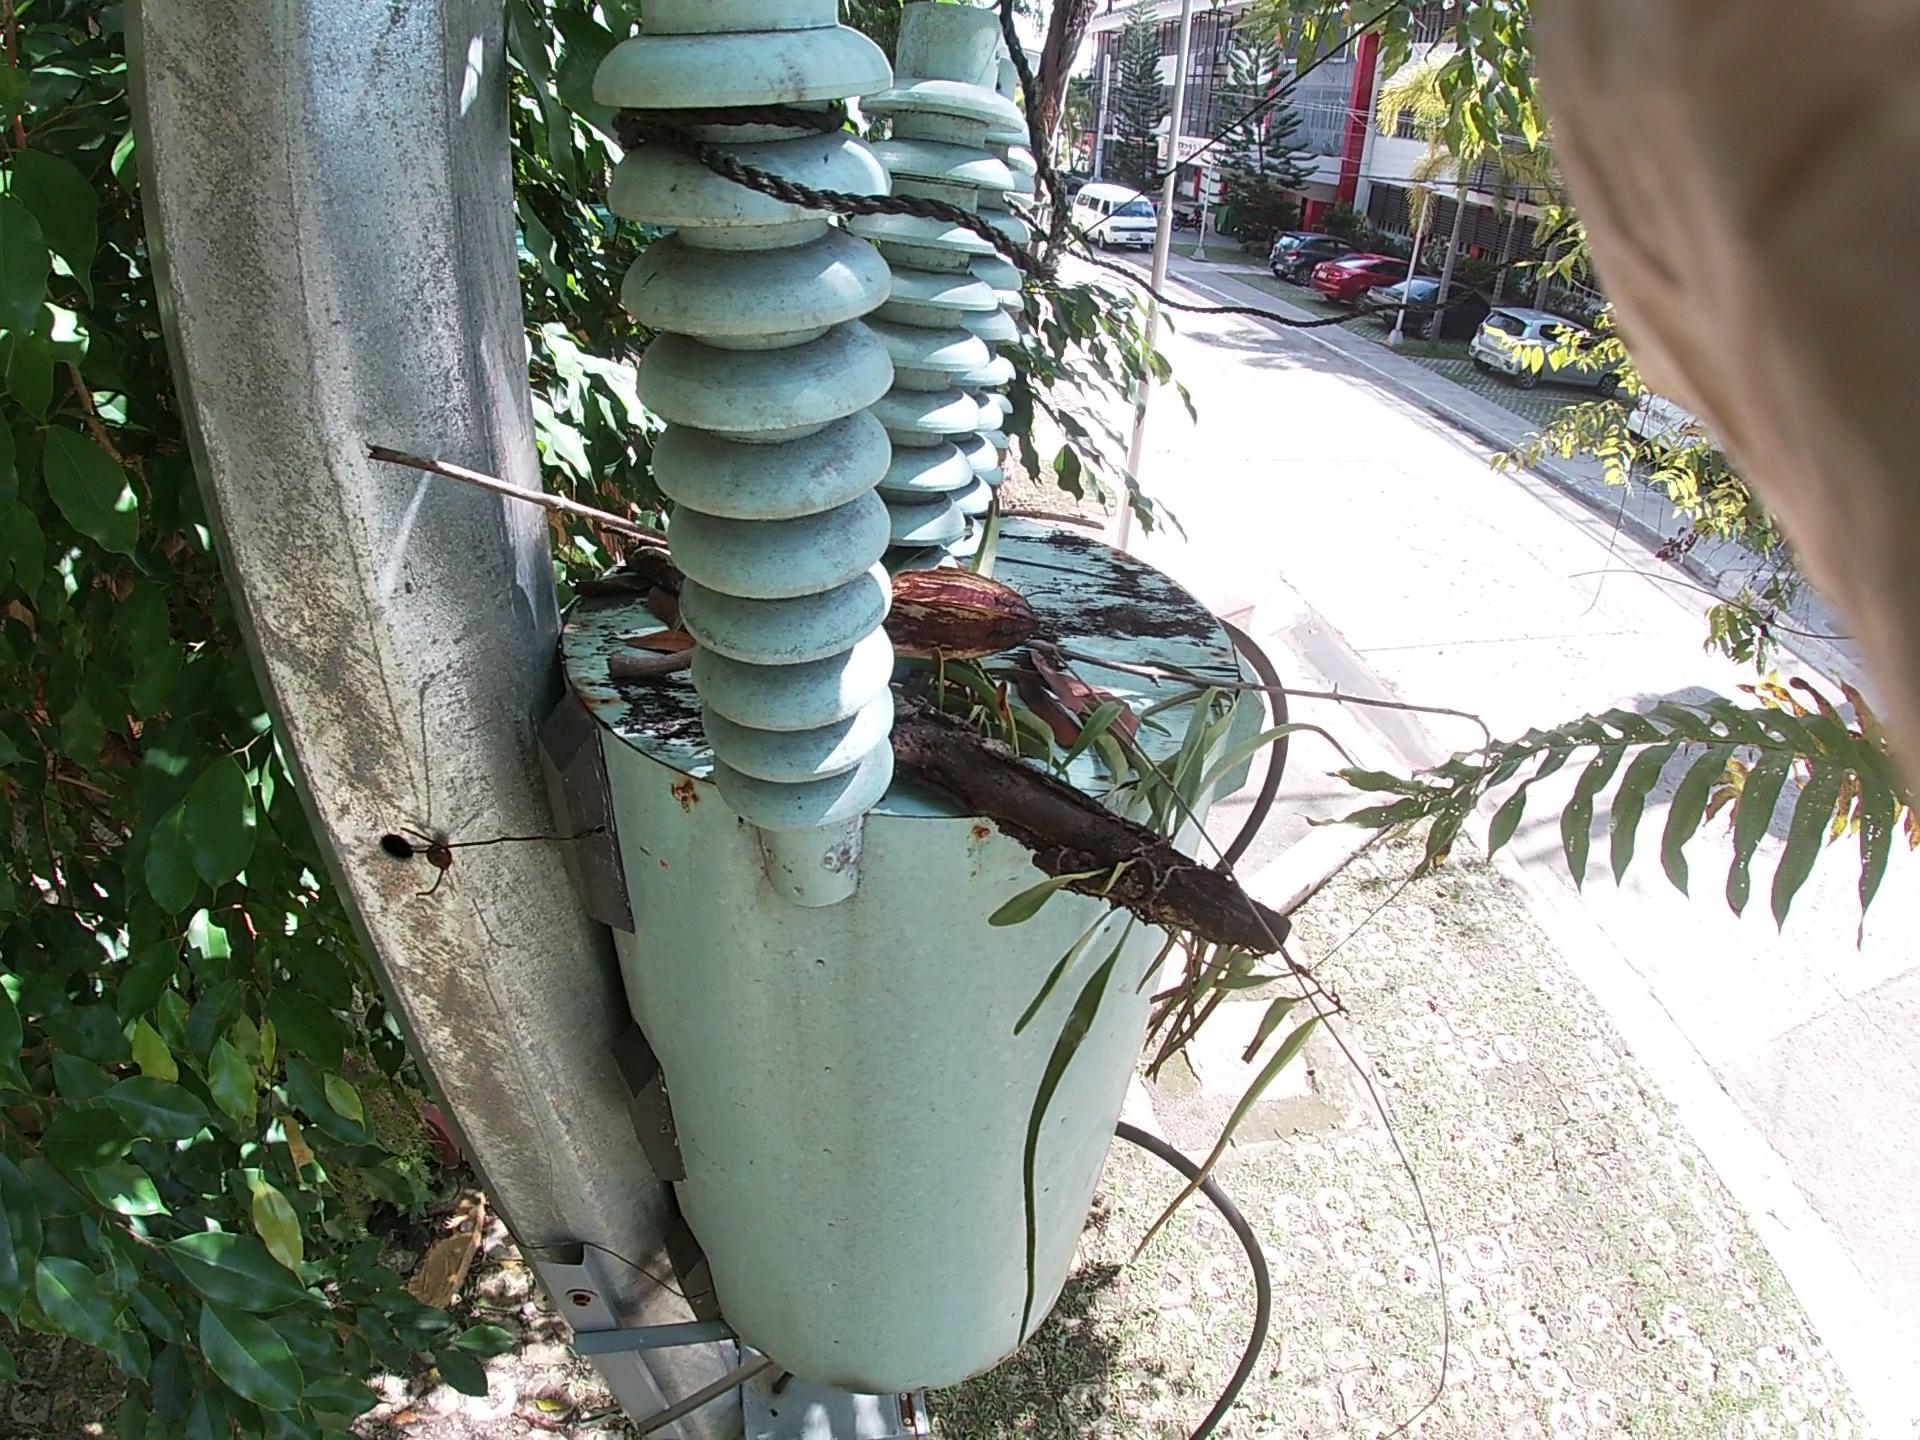branch with leaves: (807, 602, 1288, 1032)
tree branch: (343, 433, 1538, 781), (588, 625, 750, 734), (963, 473, 1137, 557)
